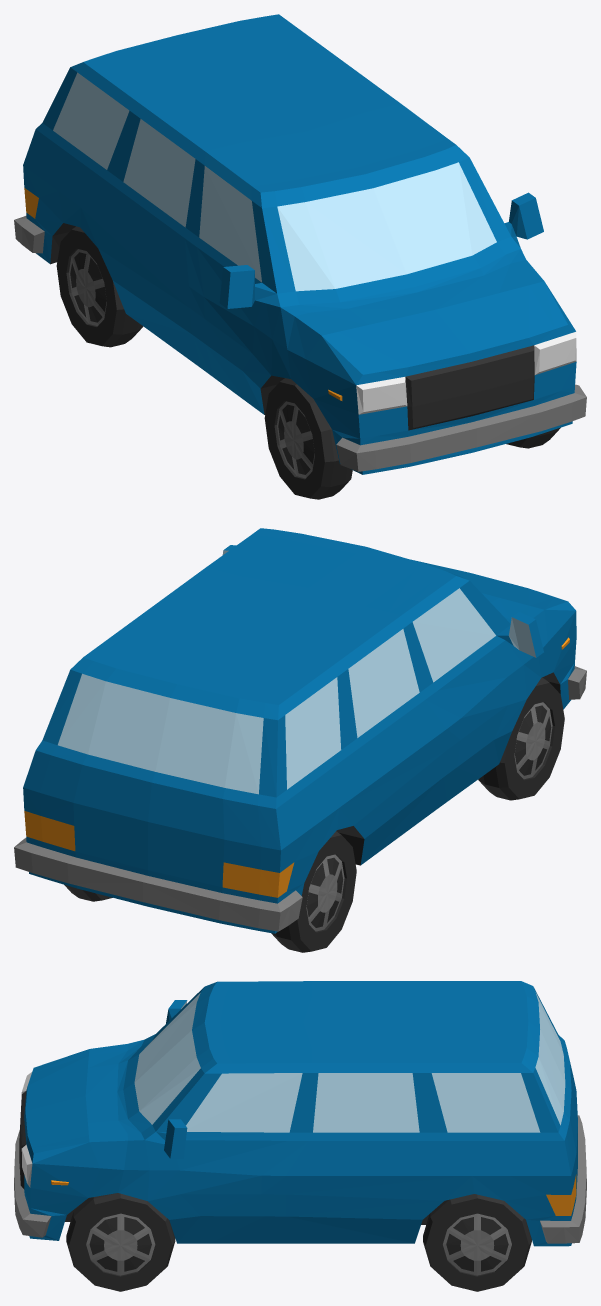
File: 1387 Van.obj
3 views of the same model, one above another, from view 1: azimuth 30°, elevation 25°; view 2: azimuth 150°, elevation 25°; view 3: azimuth 270°, elevation 25° (orthographic). The views are drawn at different scales.
Parts seen in each view (by area): view 1: Van; view 2: Van; view 3: Van.
Boxes of the visible parts, <box> form: Van: <box>14,14,586,499</box>; Van: <box>14,528,586,952</box>; Van: <box>14,981,586,1291</box>.
Size of the model in its own units: 43.89 by 34.33 by 80.23.
Materials: 1 (1 with a texture image).
